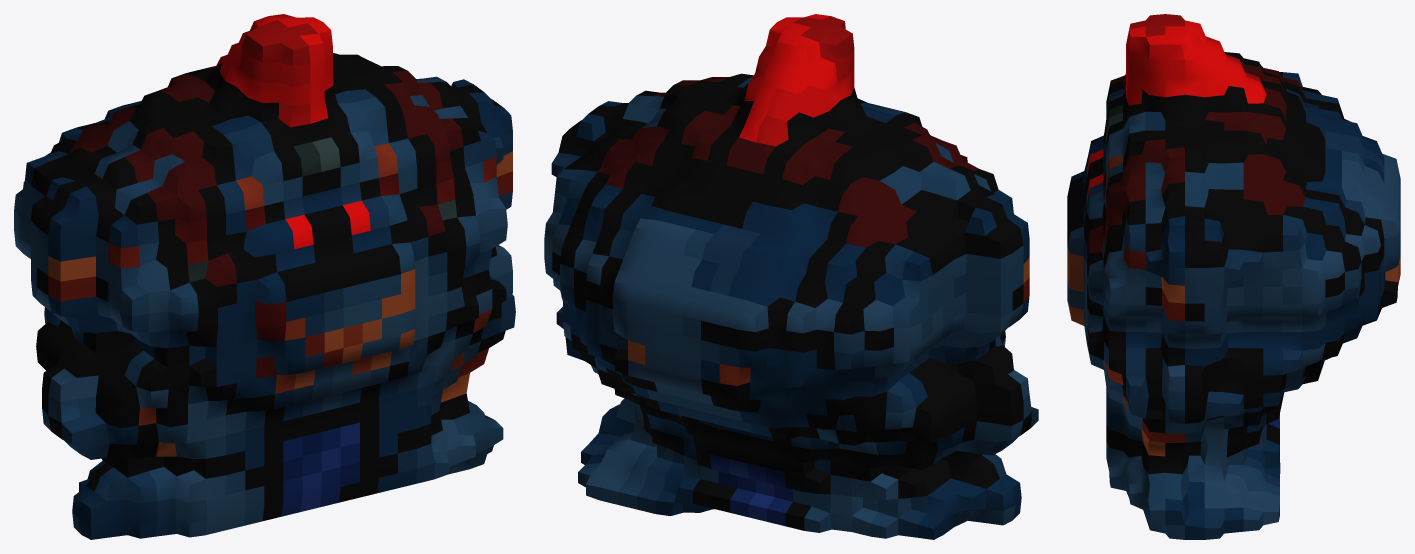
Rendered from Icon_721_01.obj.
3 views of the same model, side by side, from view 1: azimuth 30°, elevation 25°; view 2: azimuth 150°, elevation 25°; view 3: azimuth 270°, elevation 25° (orthographic). The views are drawn at different scales.
Size of the model in its own units: 2.4 by 2.4 by 1.7.
Materials: 1 (1 with a texture image).
